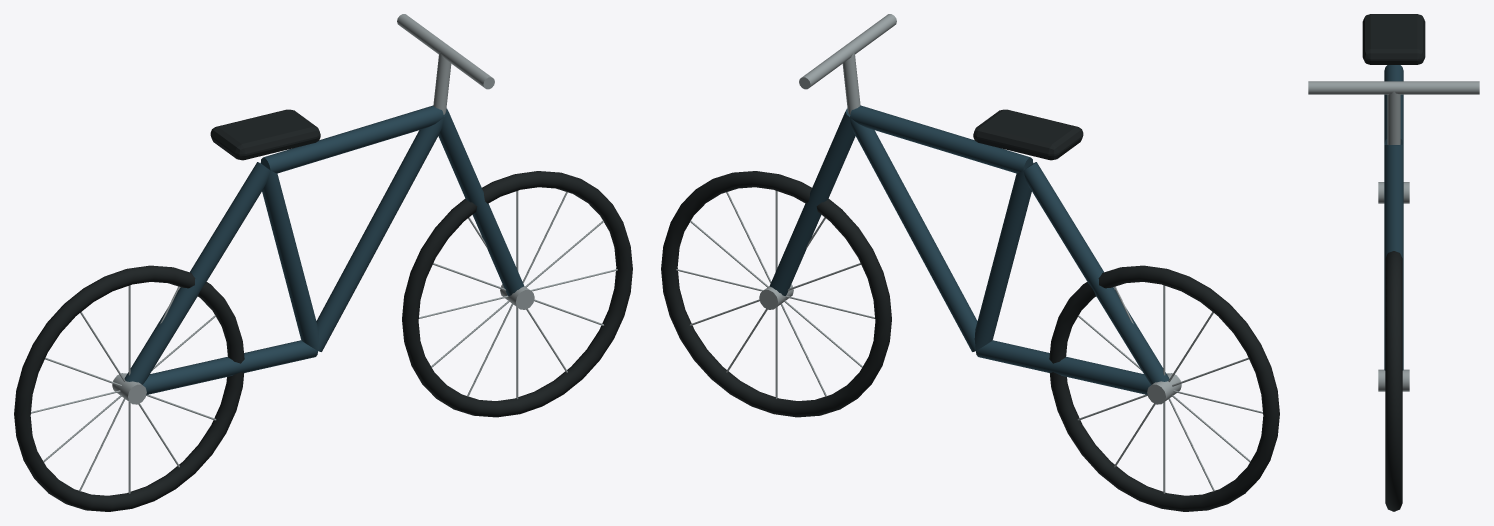
File: dutch_bicycle.glb
3 views of the same model, side by side, from view 1: azimuth 30°, elevation 25°; view 2: azimuth 150°, elevation 25°; view 3: azimuth 270°, elevation 25° (orthographic).
Parts seen in each view (by area): view 1: Recess and rubber, Navy powder coating, Weathered zinc metal; view 2: Recess and rubber, Navy powder coating, Weathered zinc metal; view 3: Recess and rubber, Weathered zinc metal, Navy powder coating.
Part boxes in pixels (left/top/right/bottom): Recess and rubber: left=14, top=109, right=632, bottom=511; Navy powder coating: left=124, top=105, right=523, bottom=394; Weathered zinc metal: left=31, top=14, right=617, bottom=493; Recess and rubber: left=661, top=109, right=1279, bottom=511; Navy powder coating: left=770, top=105, right=1169, bottom=394; Weathered zinc metal: left=676, top=14, right=1262, bottom=493; Recess and rubber: left=1362, top=14, right=1425, bottom=511; Weathered zinc metal: left=1308, top=81, right=1479, bottom=391; Navy powder coating: left=1384, top=65, right=1403, bottom=370.
Size of the model in its own units: 1.81 by 1.08 by 0.44.
